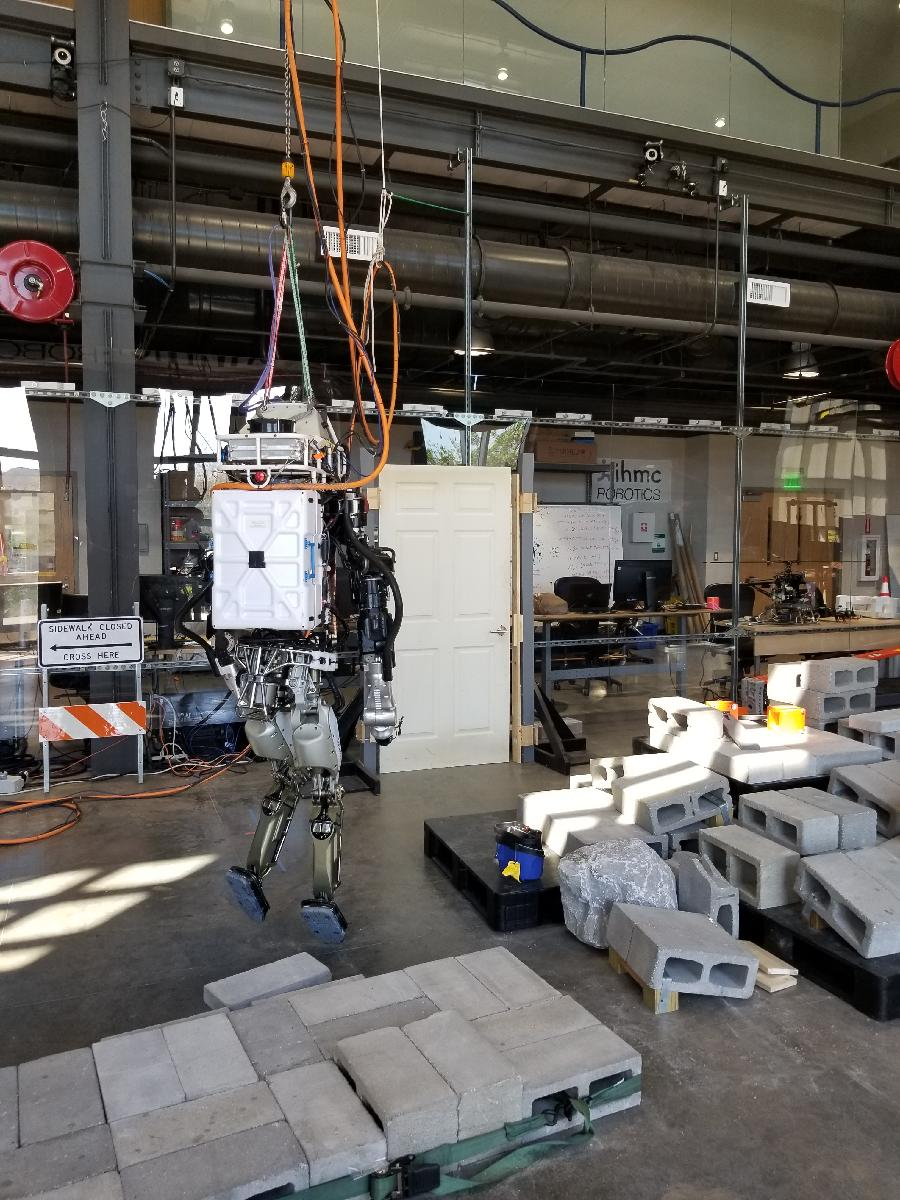door: (374, 458, 518, 771)
doorHandle: (495, 620, 520, 645)
